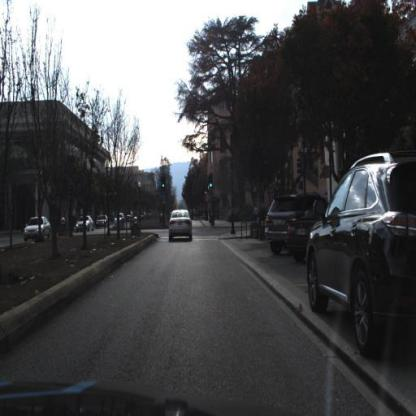car: (302, 147, 416, 367), (262, 192, 329, 260), (285, 191, 329, 264), (168, 208, 192, 242), (23, 215, 52, 242), (74, 213, 94, 232), (94, 211, 109, 230)
trafficLight-Green: (160, 173, 166, 193), (208, 172, 214, 190)
